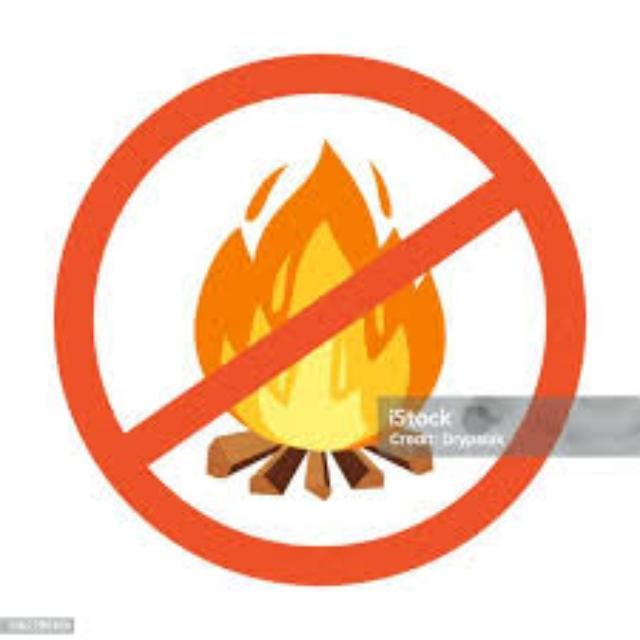cam lua: (54, 57, 580, 580)
